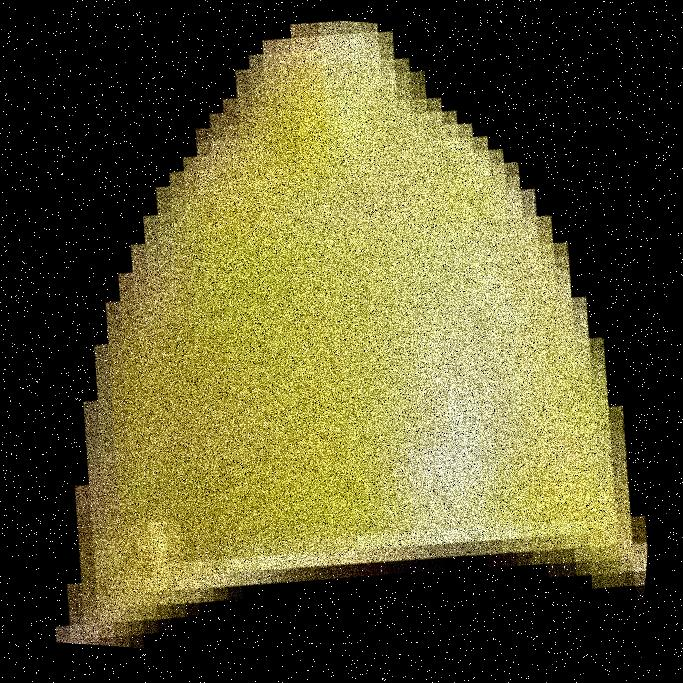Capacete: (207, 0, 463, 682)
